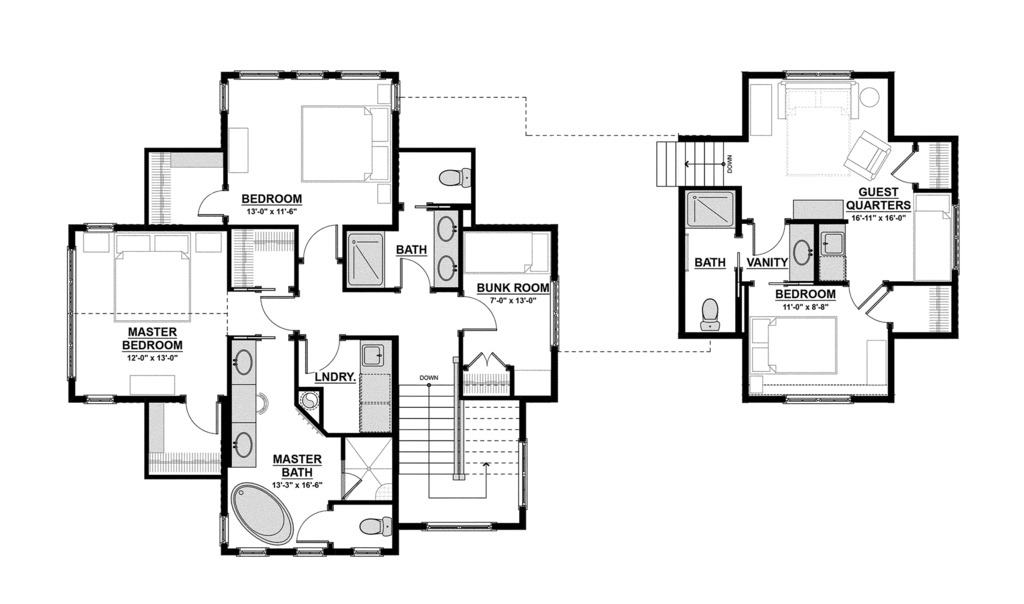bed: (112, 230, 193, 325), (299, 103, 389, 186), (746, 314, 842, 378), (430, 208, 462, 286), (229, 338, 256, 386)
door: (459, 293, 501, 333), (258, 293, 297, 333), (302, 223, 340, 264), (304, 330, 339, 374), (295, 509, 335, 545), (186, 397, 220, 435), (750, 221, 785, 257), (892, 150, 925, 184), (847, 281, 883, 307), (197, 189, 229, 217)
large_sink: (355, 510, 396, 538), (438, 165, 478, 193), (693, 295, 722, 333)
large_sofa: (776, 82, 859, 124)
small_sink: (433, 209, 463, 291), (784, 220, 814, 280), (226, 420, 259, 469), (227, 338, 257, 385), (782, 391, 853, 405)
small_sofa: (844, 128, 891, 182)
stairs: (399, 384, 522, 525), (653, 137, 735, 187)
tub: (225, 476, 293, 545), (346, 227, 388, 293)
windows: (233, 66, 386, 82), (780, 390, 852, 406), (782, 67, 855, 81), (422, 519, 491, 529)
